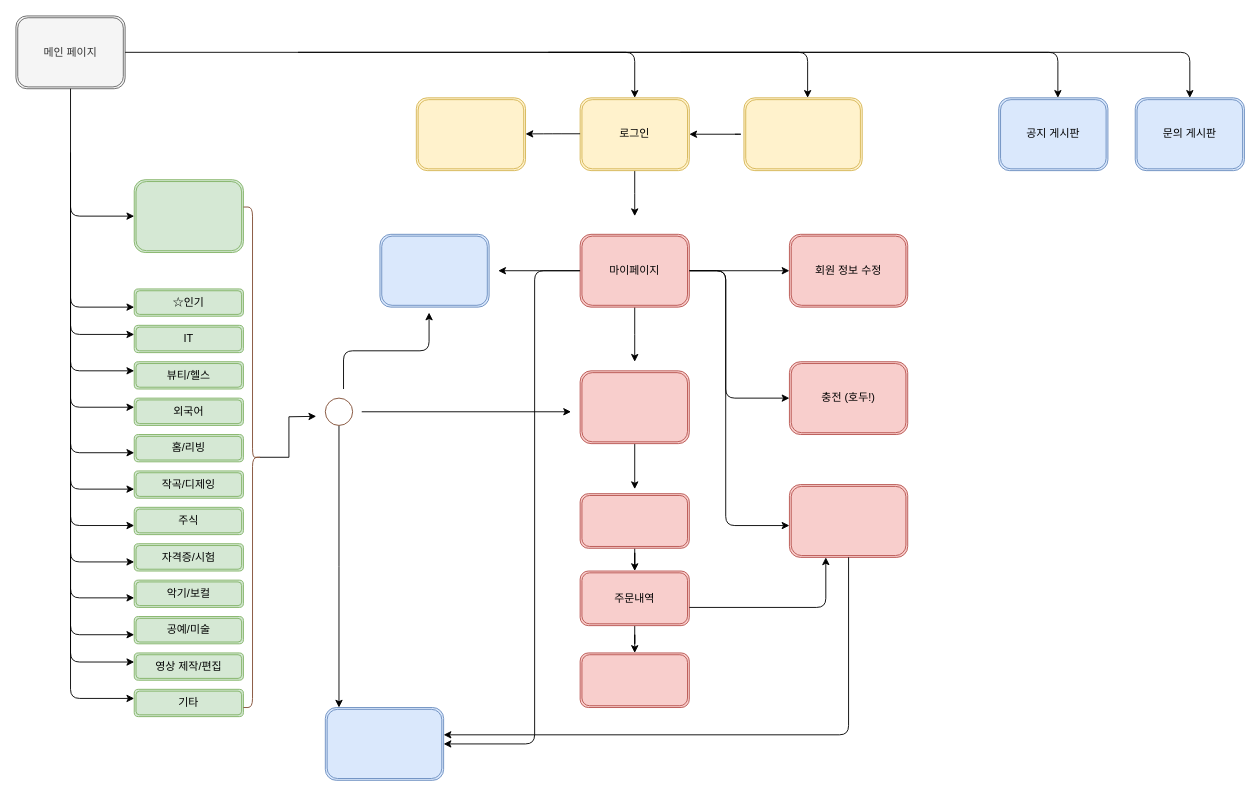
Image size: 1260x796. Some labels were removed from this diagram. Each missing label, with the centre of its shape:
결제: the point at 634,520
리뷰게시판: the point at 384,743
멘토 등록 (+ 가이드): the point at 470,134
멘토-멘티 톡: the point at 434,270
수강 신청 목록: the point at 848,520
주문취소: the point at 634,680
찜 목록: the point at 634,407
카테고리 검색: the point at 188,216
회원 등록: the point at 802,134
